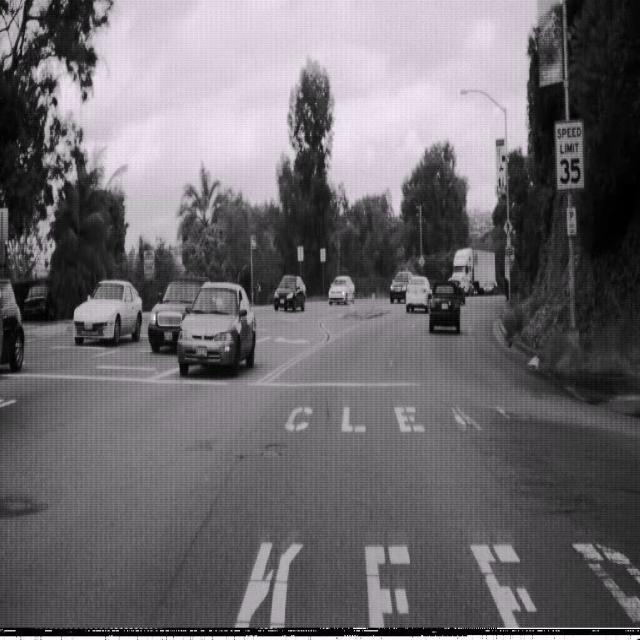speedLimit35: (554, 119, 585, 191)
